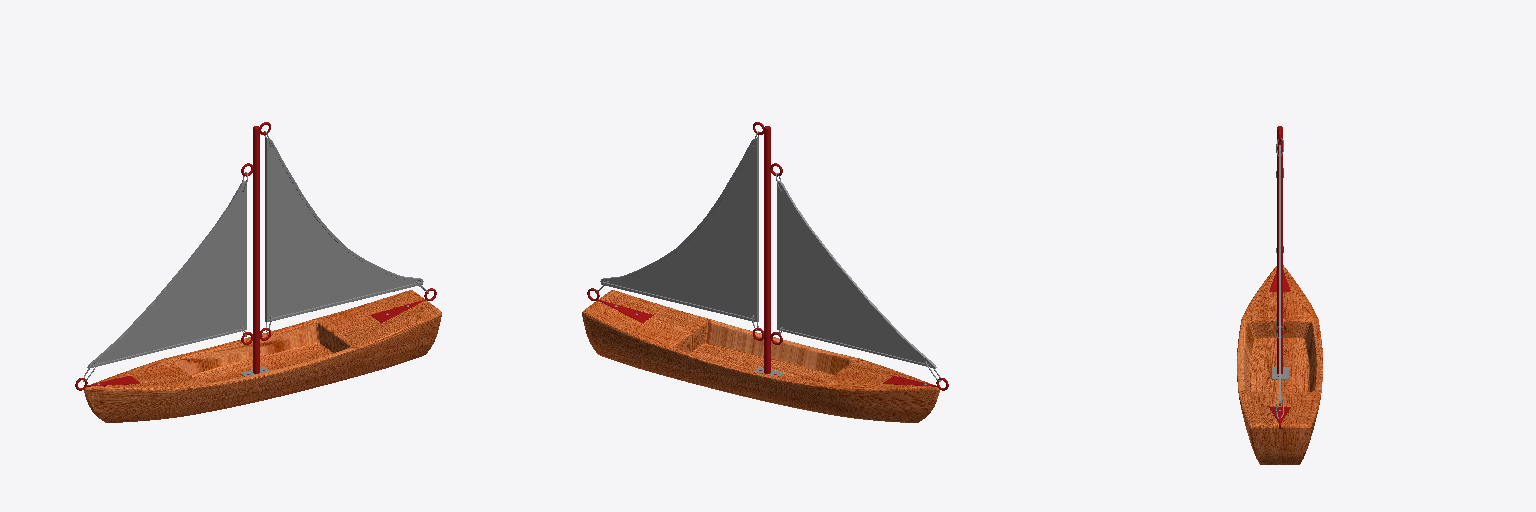
The picture shows the model from 3 angles: view 1: azimuth 30°, elevation 25°; view 2: azimuth 150°, elevation 25°; view 3: azimuth 270°, elevation 25°; orthographic projection.
Parts seen in each view (by area): view 1: arch40_077_01, arch40_077_12, arch40_077_19, arch40_077_02; view 2: arch40_077_01, arch40_077_12, arch40_077_19, arch40_077_02; view 3: arch40_077_01, arch40_077_02.
Part boxes in pixels (left/top/right/bottom): arch40_077_01: left=84, top=290, right=441, bottom=422; arch40_077_12: left=265, top=137, right=423, bottom=321; arch40_077_19: left=87, top=181, right=246, bottom=368; arch40_077_02: left=253, top=126, right=259, bottom=373; arch40_077_01: left=582, top=290, right=939, bottom=422; arch40_077_12: left=600, top=137, right=758, bottom=321; arch40_077_19: left=777, top=181, right=936, bottom=368; arch40_077_02: left=764, top=126, right=770, bottom=373; arch40_077_01: left=1237, top=265, right=1322, bottom=464; arch40_077_02: left=1277, top=126, right=1282, bottom=373.
Size of the model in its own units: 145 by 101 by 30.06.
3 materials, 1 textured.